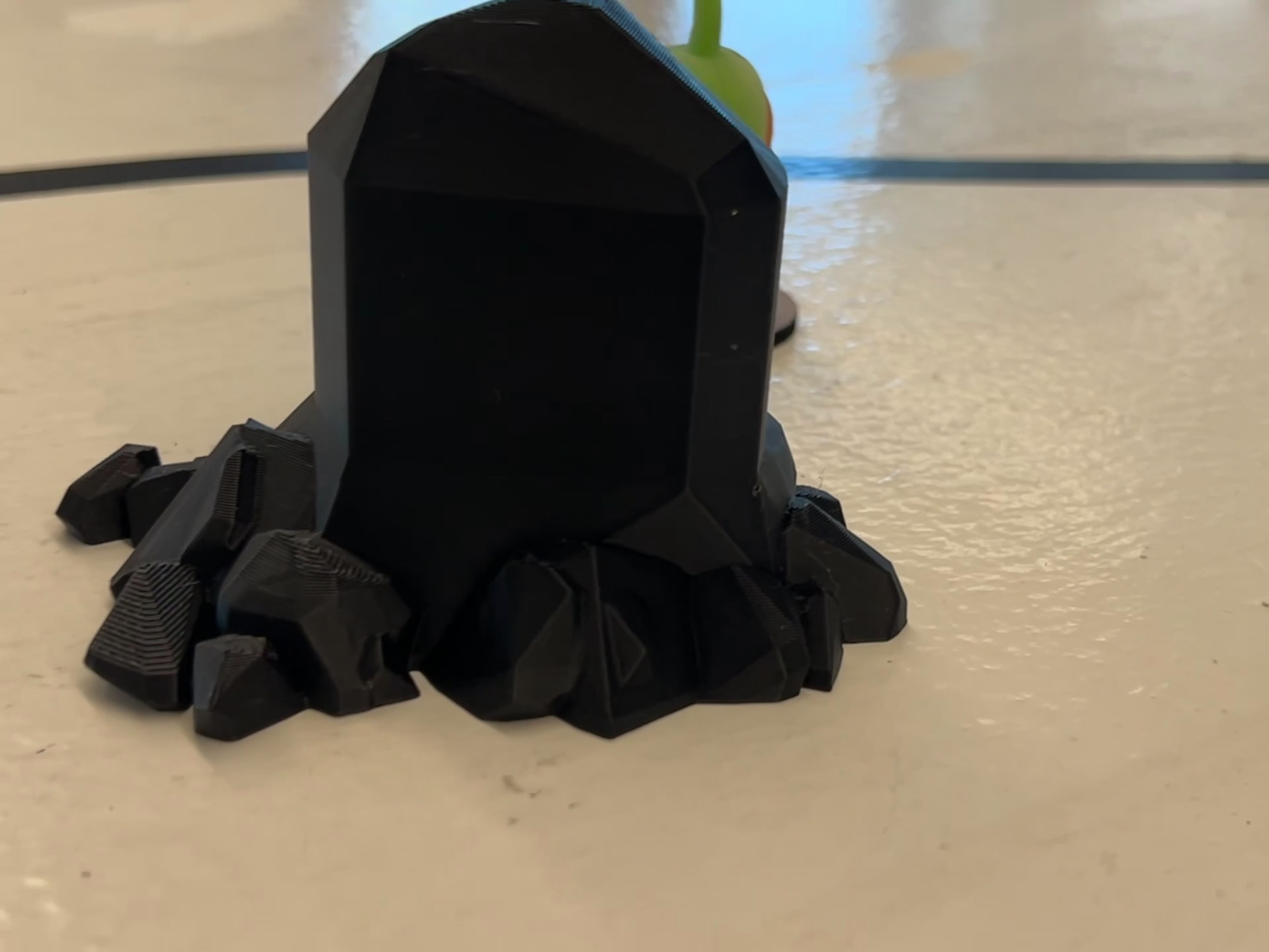teletubby: (668, 0, 772, 145)
